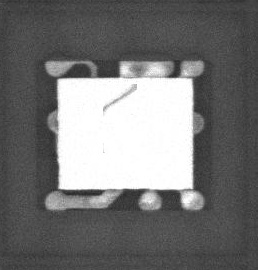DIE_INK: (103, 84, 137, 112), (100, 141, 106, 154)
